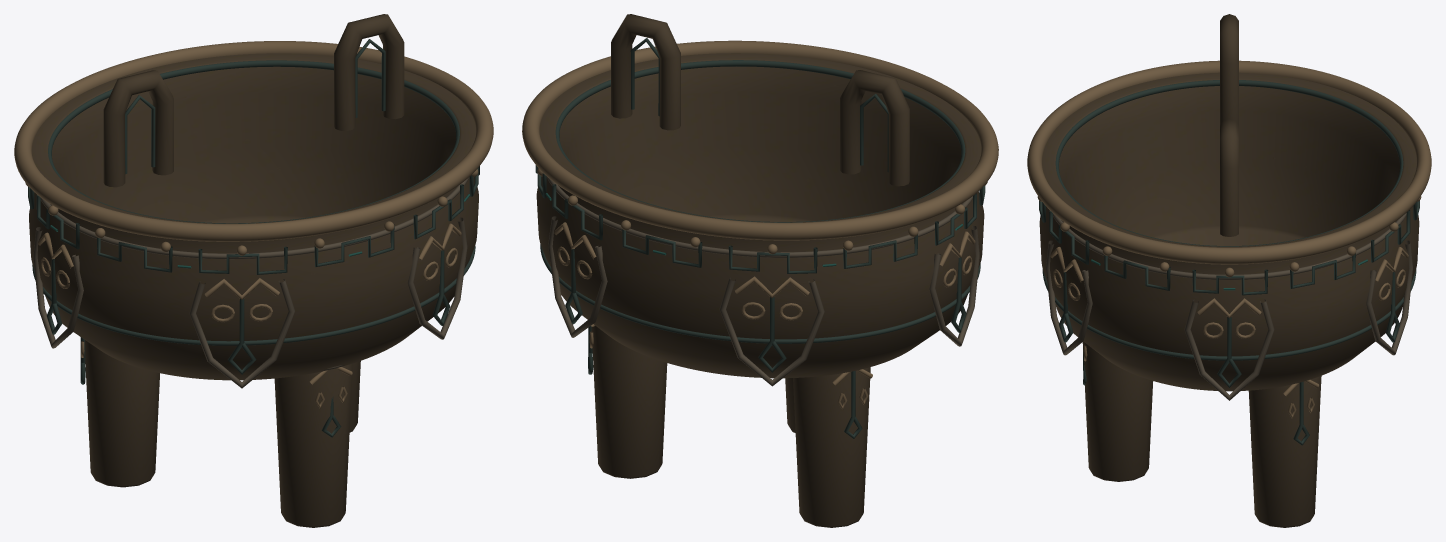
The model's file is heluo-bronze-ding-v5.2.glb.
The picture shows the model from 3 angles, left to right: view 1: azimuth 30°, elevation 25°; view 2: azimuth 150°, elevation 25°; view 3: azimuth 270°, elevation 25°; orthographic projection. The views are drawn at different scales.
Visible parts, largest first — view 1: V5_2_CMA_Reference_Reconstructed_Body, V5_2_Flared_Rim, V5_2_Cylindrical_Leg_1, V5_2_Cylindrical_Leg_3, V5_2_Right_Compact_Ear, V5_2_Left_Compact_Ear, V5_2_Rim_Inner_Shadow, V5_2_Lower_Band, V5_2_Upper_Band, V5_2_Cicada_Frame_4, V5_2_Cicada_Frame_5, V5_2_Cicada_Frame_3 (+7 smaller); view 2: V5_2_CMA_Reference_Reconstructed_Body, V5_2_Flared_Rim, V5_2_Cylindrical_Leg_3, V5_2_Cylindrical_Leg_2, V5_2_Left_Compact_Ear, V5_2_Right_Compact_Ear, V5_2_Rim_Inner_Shadow, V5_2_Lower_Band, V5_2_Upper_Band, V5_2_Cicada_Frame_2, V5_2_Cicada_Frame_1, V5_2_Cicada_Frame_3 (+4 smaller); view 3: V5_2_CMA_Reference_Reconstructed_Body, V5_2_Flared_Rim, V5_2_Cylindrical_Leg_2, V5_2_Cylindrical_Leg_1, V5_2_Rim_Inner_Shadow, V5_2_Right_Compact_Ear, V5_2_Left_Compact_Ear, V5_2_Lower_Band, V5_2_Upper_Band, V5_2_Cicada_Frame_0, V5_2_Cicada_Frame_5, V5_2_Cicada_Frame_1 (+4 smaller).
Boxes of the visible parts, x1=… form: V5_2_CMA_Reference_Reconstructed_Body: x1=29, y1=53, x2=478, y2=380; V5_2_Flared_Rim: x1=14, y1=41, x2=493, y2=241; V5_2_Cylindrical_Leg_1: x1=274, y1=363, x2=352, y2=527; V5_2_Cylindrical_Leg_3: x1=85, y1=340, x2=159, y2=487; V5_2_Right_Compact_Ear: x1=334, y1=14, x2=404, y2=130; V5_2_Left_Compact_Ear: x1=103, y1=70, x2=173, y2=187; V5_2_Rim_Inner_Shadow: x1=48, y1=60, x2=459, y2=223; V5_2_Lower_Band: x1=32, y1=246, x2=475, y2=345; V5_2_Upper_Band: x1=40, y1=177, x2=469, y2=259; V5_2_Cicada_Frame_4: x1=189, y1=279, x2=294, y2=388; V5_2_Cicada_Frame_5: x1=408, y1=217, x2=467, y2=339; V5_2_Cicada_Frame_3: x1=33, y1=227, x2=83, y2=348; V5_2_CMA_Reference_Reconstructed_Body: x1=536, y1=53, x2=984, y2=378; V5_2_Flared_Rim: x1=522, y1=40, x2=998, y2=240; V5_2_Cylindrical_Leg_3: x1=793, y1=367, x2=870, y2=527; V5_2_Cylindrical_Leg_2: x1=591, y1=326, x2=667, y2=478; V5_2_Left_Compact_Ear: x1=840, y1=70, x2=909, y2=186; V5_2_Right_Compact_Ear: x1=611, y1=14, x2=680, y2=130; V5_2_Rim_Inner_Shadow: x1=555, y1=60, x2=965, y2=222; V5_2_Lower_Band: x1=540, y1=244, x2=980, y2=343; V5_2_Upper_Band: x1=546, y1=176, x2=972, y2=257; V5_2_Cicada_Frame_2: x1=719, y1=277, x2=824, y2=386; V5_2_Cicada_Frame_1: x1=548, y1=216, x2=607, y2=337; V5_2_Cicada_Frame_3: x1=929, y1=226, x2=979, y2=346; V5_2_CMA_Reference_Reconstructed_Body: x1=1039, y1=72, x2=1419, y2=391; V5_2_Flared_Rim: x1=1027, y1=60, x2=1431, y2=264; V5_2_Cylindrical_Leg_2: x1=1248, y1=376, x2=1321, y2=527; V5_2_Cylindrical_Leg_1: x1=1082, y1=341, x2=1153, y2=481; V5_2_Rim_Inner_Shadow: x1=1055, y1=80, x2=1403, y2=246; V5_2_Right_Compact_Ear: x1=1220, y1=118, x2=1238, y2=236; V5_2_Left_Compact_Ear: x1=1220, y1=14, x2=1238, y2=124; V5_2_Lower_Band: x1=1042, y1=269, x2=1416, y2=360; V5_2_Upper_Band: x1=1053, y1=213, x2=1406, y2=279; V5_2_Cicada_Frame_0: x1=1184, y1=299, x2=1274, y2=400; V5_2_Cicada_Frame_5: x1=1046, y1=240, x2=1092, y2=355; V5_2_Cicada_Frame_1: x1=1366, y1=240, x2=1412, y2=355.
Size of the model in its own units: 2.45 by 2.33 by 2.16.
5 materials, 1 textured.
